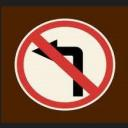NoVirarEsquerda: (12, 15, 118, 115)
